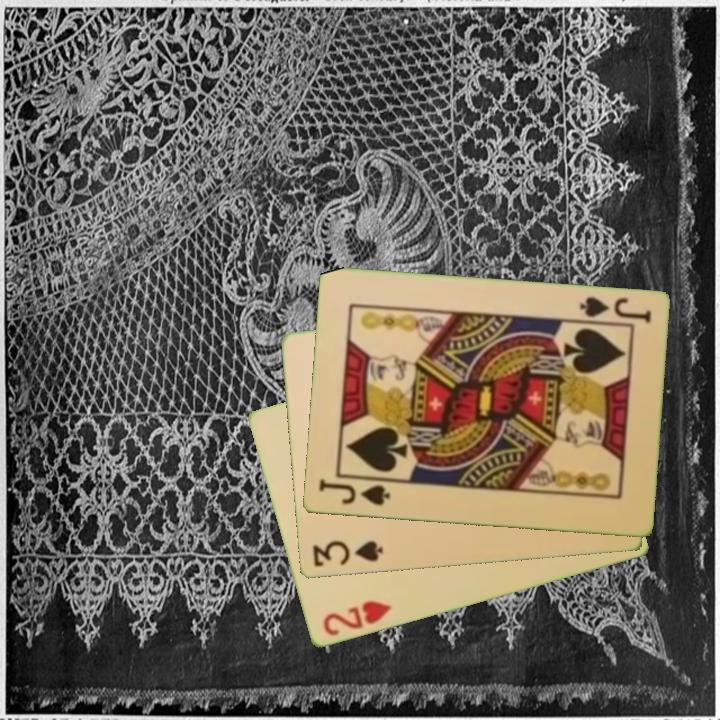2h: (319, 597, 394, 640)
3s: (309, 538, 386, 571)
Js: (574, 294, 653, 327), (314, 476, 392, 508)
